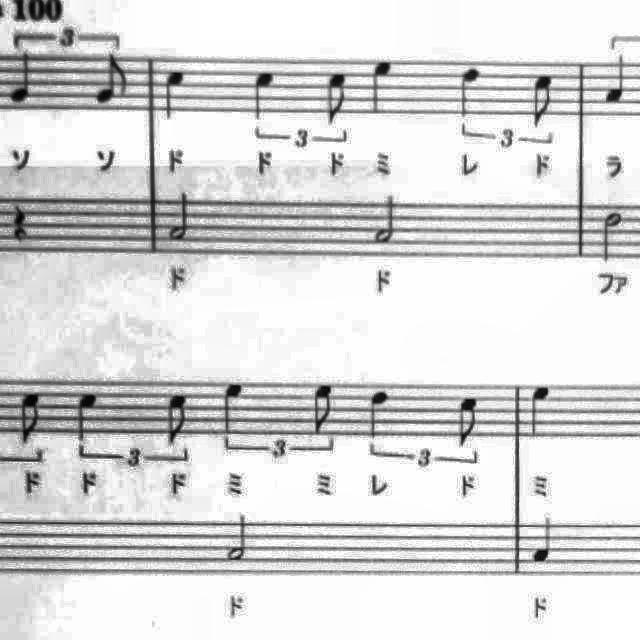Eighth-note: (90, 46, 134, 112), (318, 65, 358, 133), (523, 68, 561, 136), (12, 386, 50, 450), (304, 378, 340, 442), (450, 391, 486, 453), (160, 388, 194, 452)
Half-note: (592, 205, 630, 268), (365, 188, 403, 246), (220, 510, 256, 568), (167, 184, 200, 243)
Quarter-note: (363, 55, 401, 122), (215, 378, 252, 444), (451, 60, 489, 124), (522, 380, 558, 444), (158, 64, 194, 128), (70, 385, 106, 447), (5, 47, 40, 109), (362, 384, 398, 444), (246, 66, 282, 126), (601, 50, 637, 110), (526, 512, 560, 568)
Quarter-rest: (2, 198, 34, 250)
